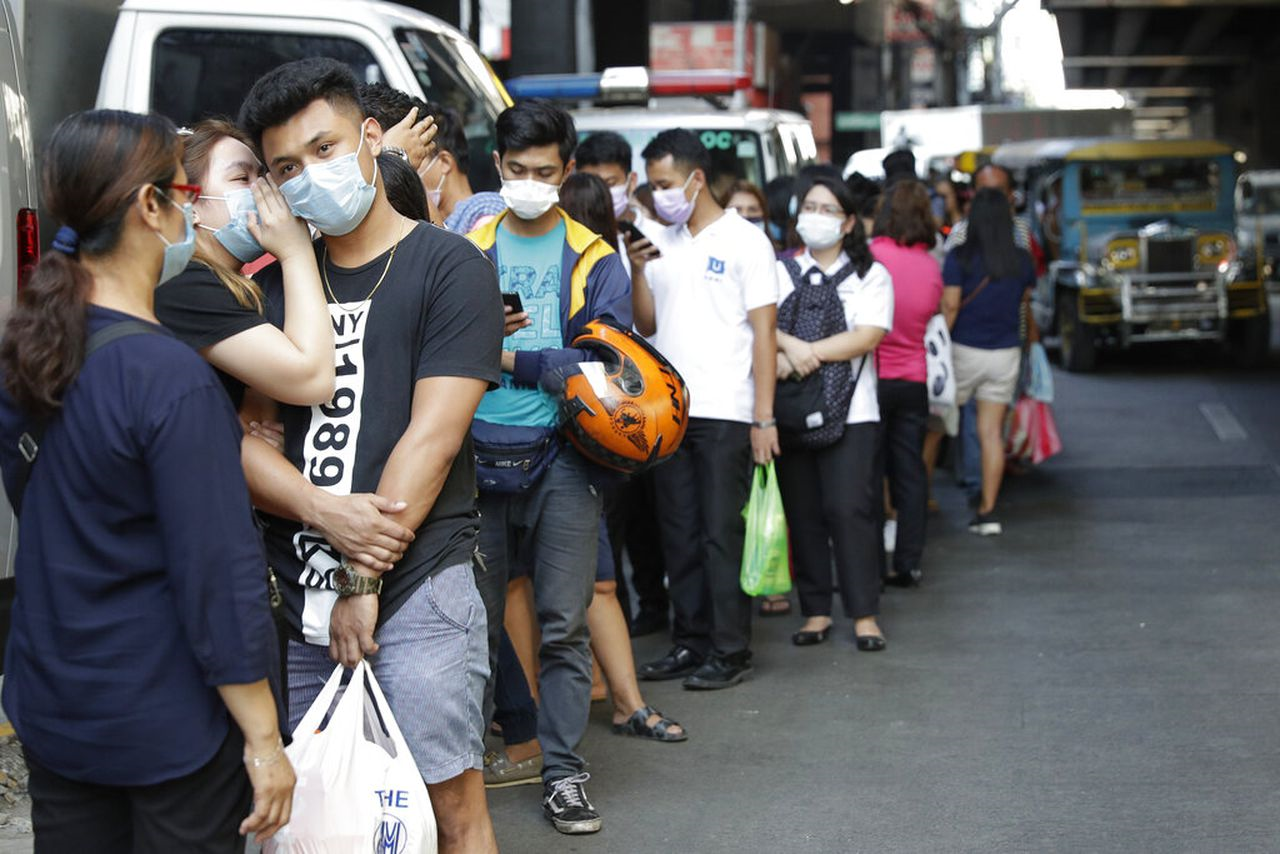with_mask: (275, 117, 391, 238), (499, 135, 573, 222), (795, 188, 857, 248), (651, 161, 702, 231)
